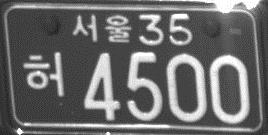0: (209, 53, 252, 125), (165, 51, 207, 124)
3: (137, 13, 163, 46)
4: (81, 51, 122, 121)
5: (125, 51, 163, 122), (167, 13, 193, 45)
서울_O: (71, 13, 132, 45)
허: (21, 52, 65, 97)
